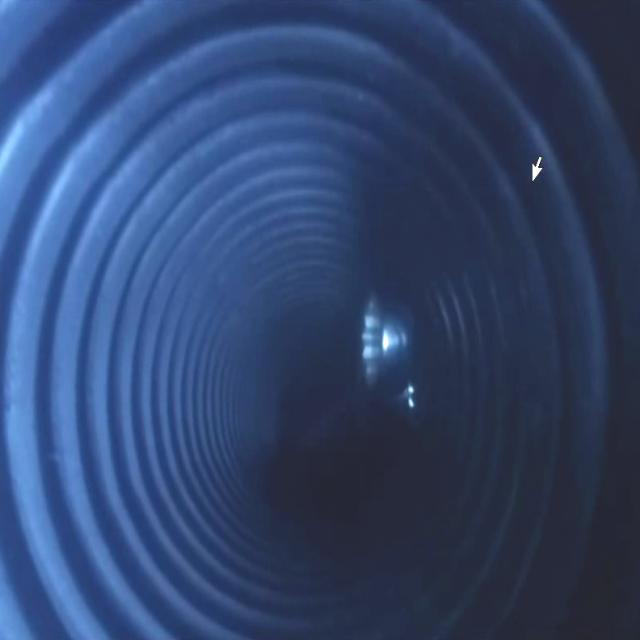metal piece: (363, 283, 431, 418)
